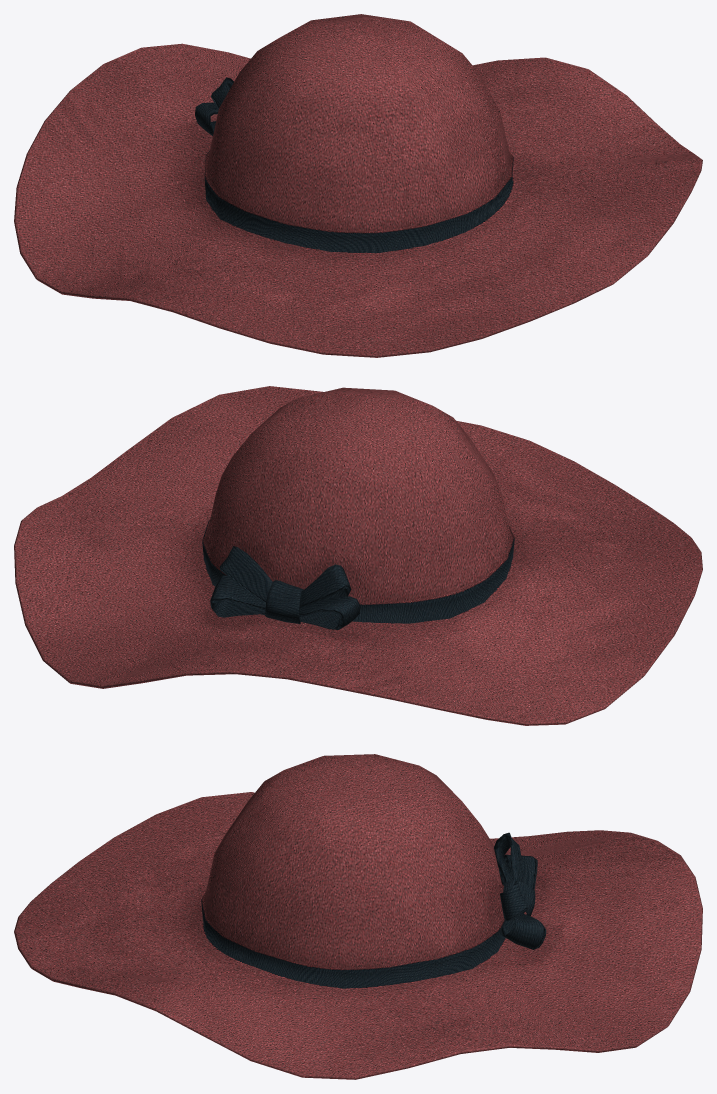
File: Hat1.fbx
3 views of the same model, one above another, from view 1: azimuth 30°, elevation 25°; view 2: azimuth 150°, elevation 25°; view 3: azimuth 270°, elevation 25° (orthographic).
Visible parts, largest first — view 1: polySurface27; view 2: polySurface27; view 3: polySurface27.
Part boxes in pixels (bbox=[...]): polySurface27: bbox=[14, 14, 702, 357]; polySurface27: bbox=[14, 386, 702, 725]; polySurface27: bbox=[14, 754, 702, 1079].
Size of the model in its own units: 49.25 by 16.33 by 50.19.
